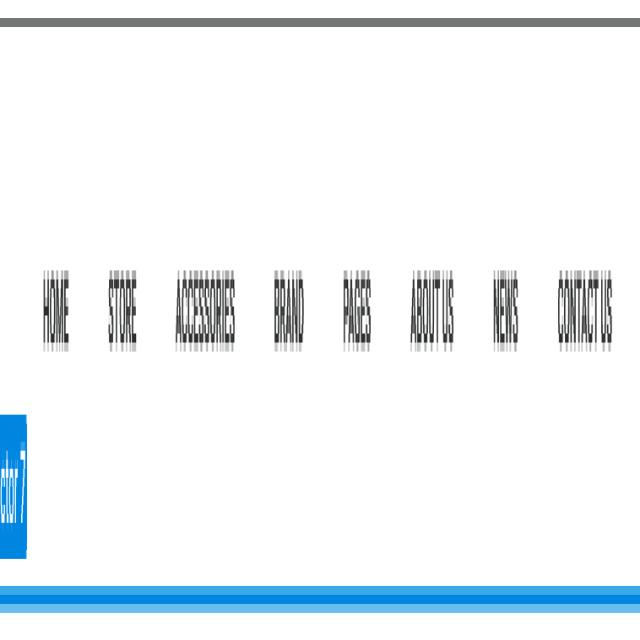Navigation: (39, 123, 616, 437)
